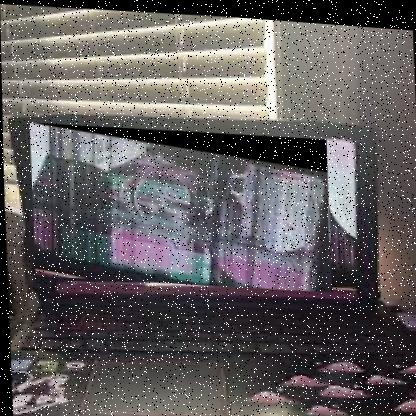lines: (29, 117, 332, 294)
